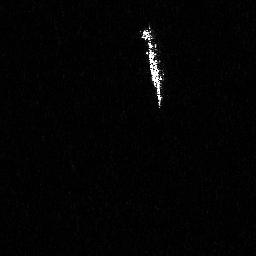ship: (138, 24, 167, 113)
